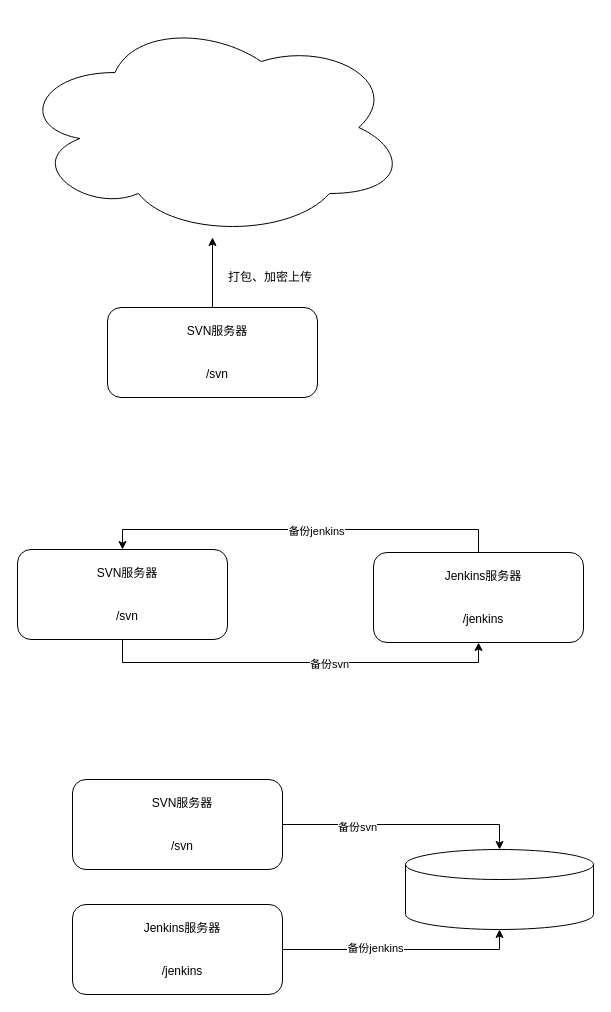
The diagram is 611 pixels wide and 1012 high, and some of its shapes have lost their labels. The shapes that lost their labels are listed below. From the top down, each one's box as (x1, y1, x2, y2) in pixels, then its label:
(16, 16, 408, 238): OSS
(404, 848, 594, 930): SeaweedFS
